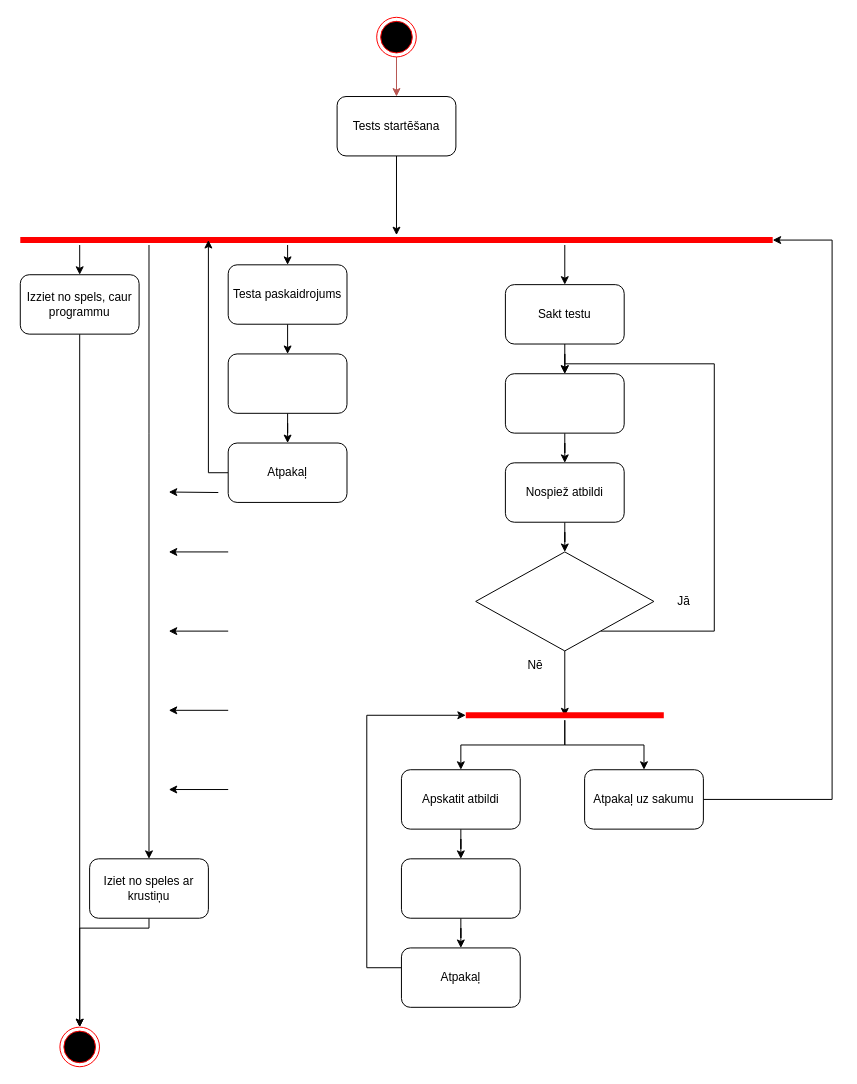
The diagram is 857 pixels wide and 1084 high, and some of its shapes have lost their labels. The shapes that lost their labels are listed below. From the top down, each one's centre as x and y in pixels, then its label:
pixel 287 383: Parāda paskaidrojumu
pixel 564 403: Parada jautajumu
pixel 564 601: atbildetieJaut<10
pixel 460 888: Parada atbildes rezultatu
